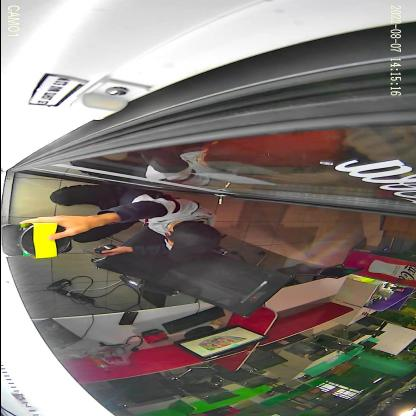green: (0, 223, 73, 257)
yellow: (16, 223, 70, 258)
